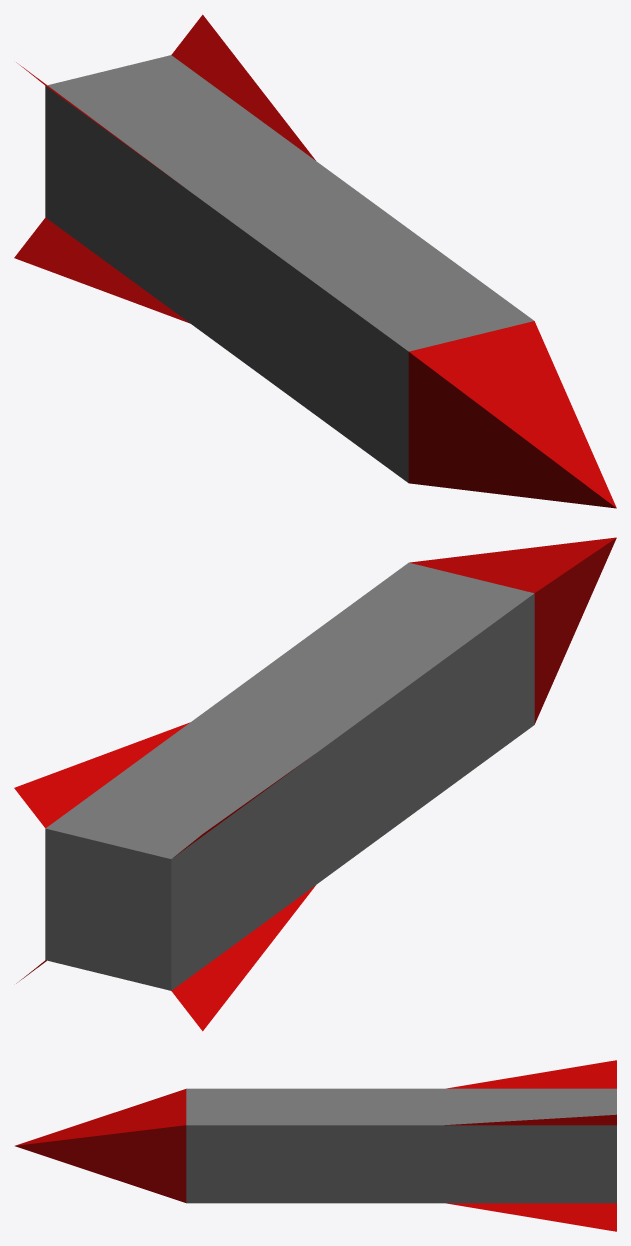
File: missile.obj
The picture shows the model from 3 angles, top to bottom: view 1: azimuth 30°, elevation 25°; view 2: azimuth 150°, elevation 25°; view 3: azimuth 270°, elevation 25°; orthographic projection. The views are drawn at different scales.
Parts seen in each view (by area): view 1: missile; view 2: missile; view 3: missile.
Boxes of the visible parts, bbox=[...] form: missile: bbox=[14, 14, 616, 508]; missile: bbox=[14, 537, 616, 1031]; missile: bbox=[15, 1060, 616, 1231].
Size of the model in its own units: 24 by 24 by 112.
